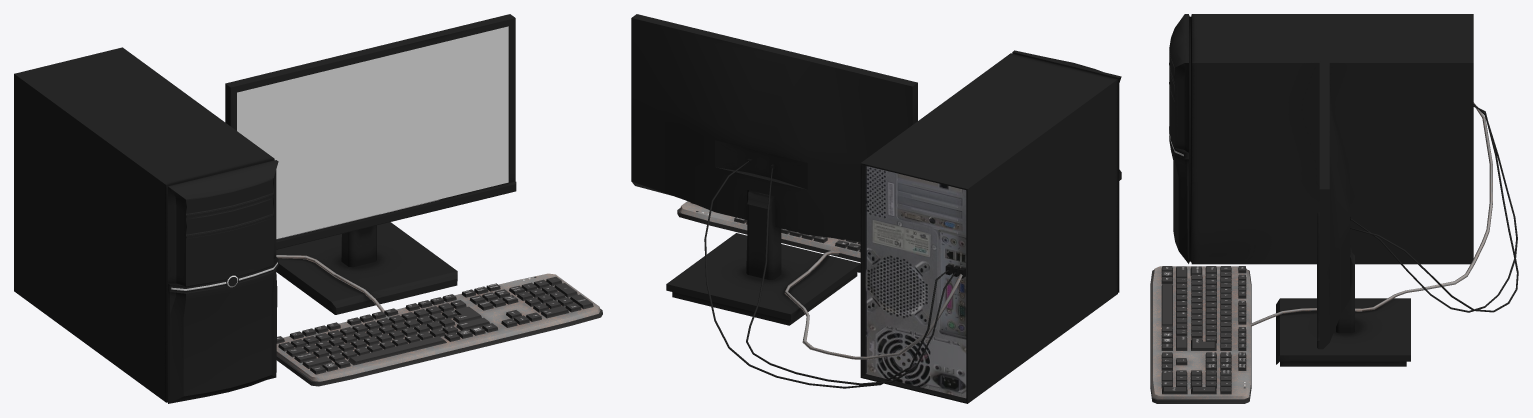
Rendered from Computer.fbx.
3 renders of one model, left to right at view 1: azimuth 30°, elevation 25°; view 2: azimuth 150°, elevation 25°; view 3: azimuth 270°, elevation 25°, orthographic. The views are drawn at different scales.
Visible parts, largest first — view 1: Cube.001, Cube.002, Cube; view 2: Cube.001, Cube.002, Cube; view 3: Cube.001, Cube, Cube.002.
Boxes of the visible parts, box(x1,y1,x2,y2) form: Cube.001: box(14, 47, 278, 403); Cube.002: box(225, 14, 516, 314); Cube: box(276, 255, 602, 386); Cube.001: box(860, 50, 1121, 403); Cube.002: box(631, 14, 917, 325); Cube: box(677, 158, 965, 388); Cube.001: box(1169, 14, 1473, 264); Cube: box(1150, 102, 1518, 403); Cube.002: box(1276, 60, 1410, 366).
Bounding box in the file's own units: 474 × 251 × 390.
